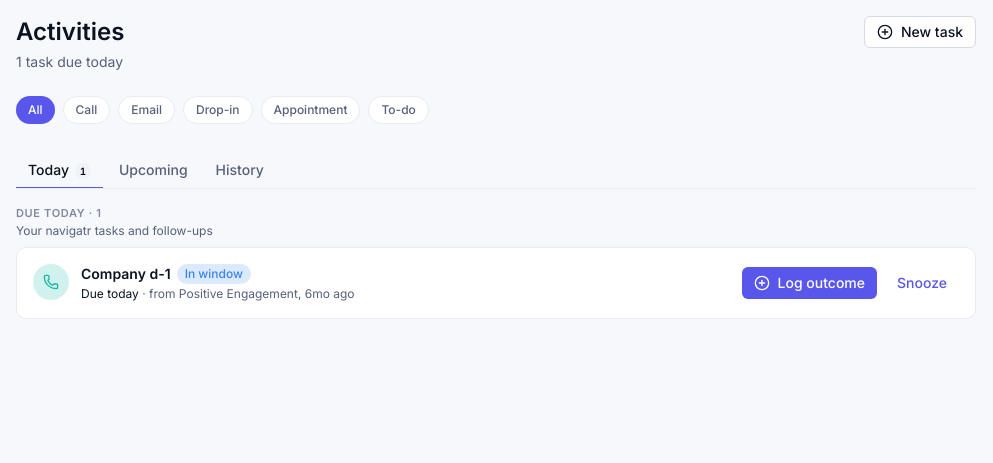
Test: ActivitiesPage / task row actions › offers all three snooze options plus Cancel follow-up
Click the button "Snooze".
click(922, 283)  # box [885, 267, 959, 299]
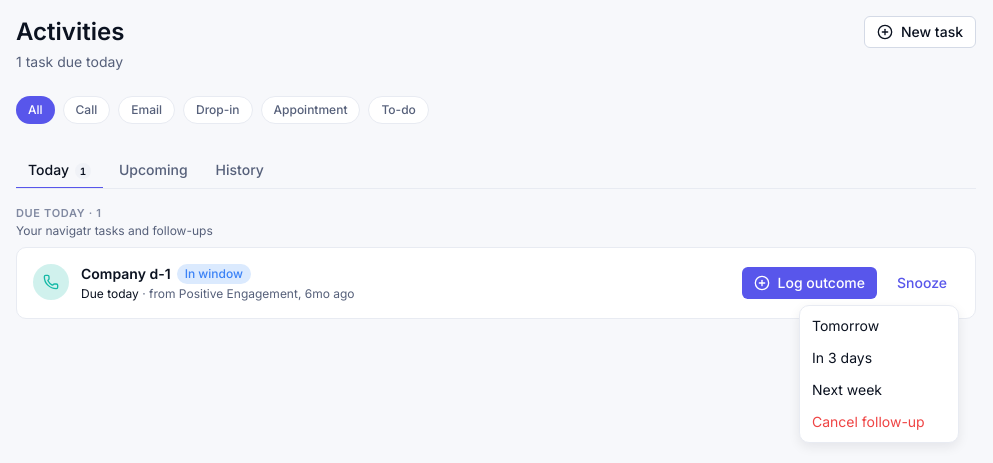
Result: the menu item "Tomorrow" is shown at [812, 317, 879, 334]
Result: the menu item "In 3 days" is shown at [812, 349, 872, 366]
Result: the menu item "Next week" is shown at [812, 381, 882, 398]
